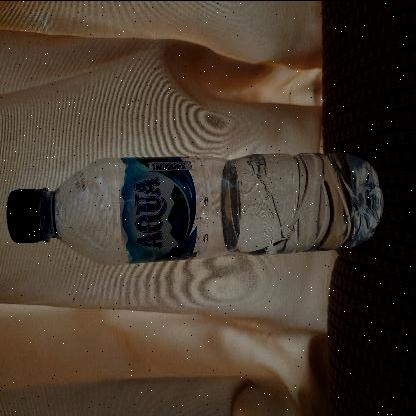Plastic Bottle: (6, 148, 388, 262)
